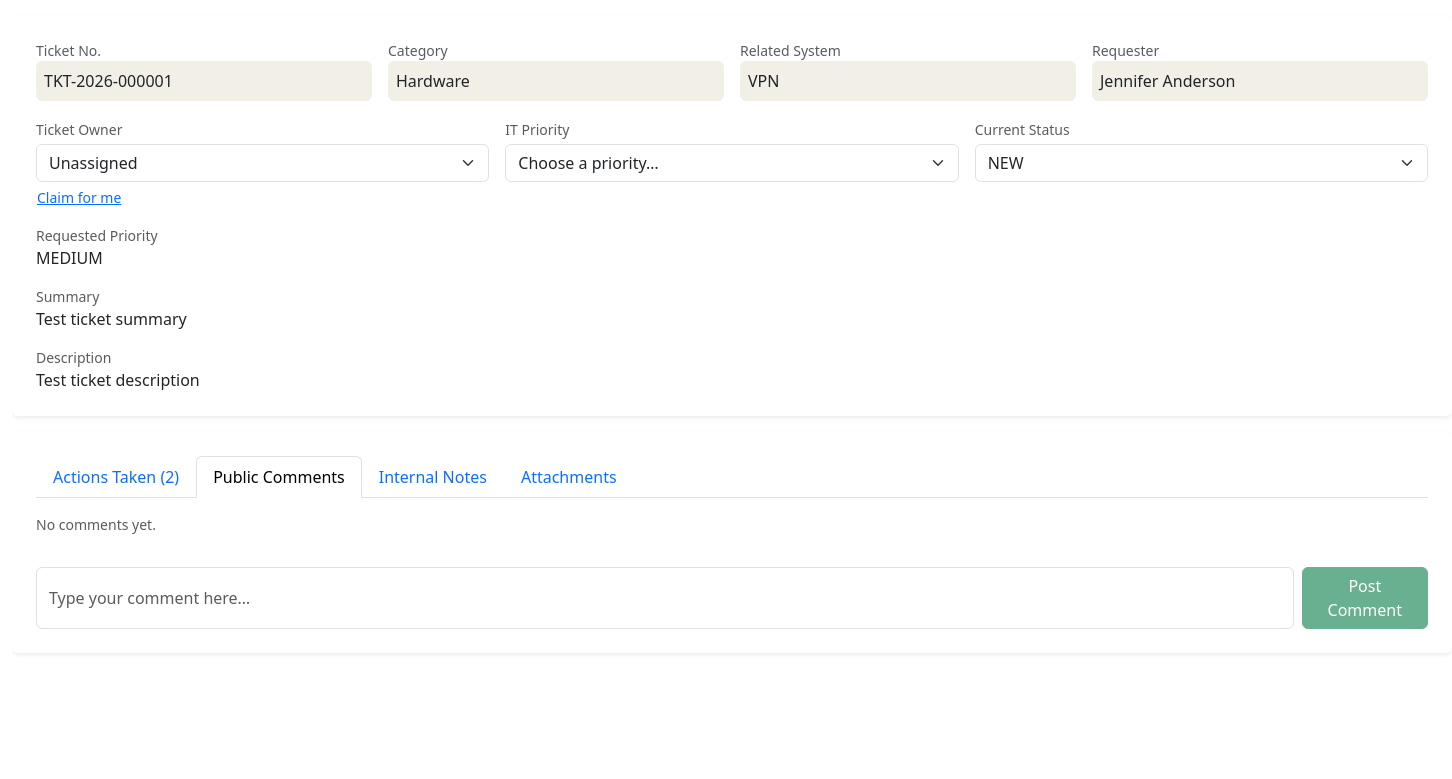
Test: Actions Taken — IT Staff Ticket Detail › renders a populated list with the Follow-up needed badge on the right entry (UI-01)
Click the button "Actions Taken (2)": (116, 477) [36, 456, 196, 498]
(page scrolled)
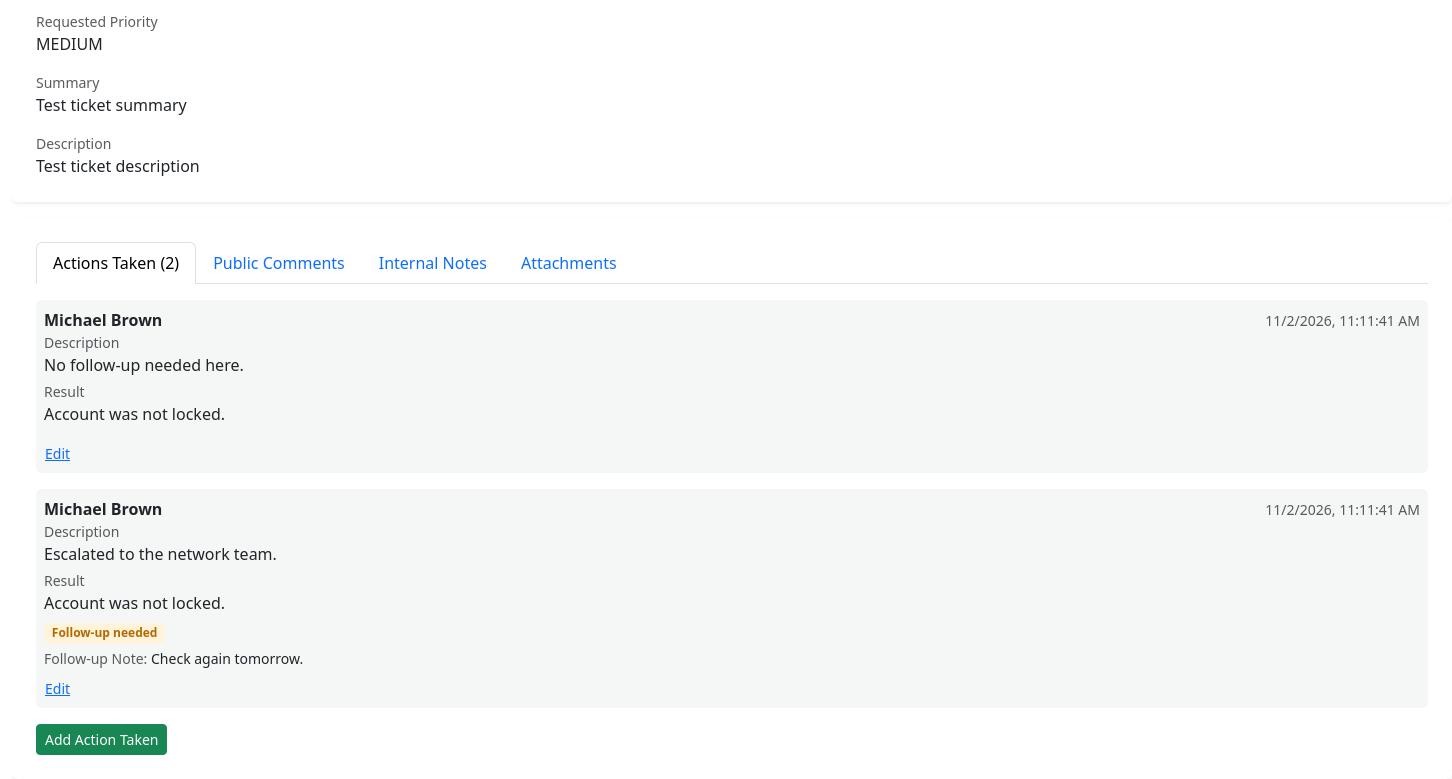
Now the text "Escalated to the network team." is shown, box [44, 543, 277, 565]
Now the text "Follow-up needed" is shown, box [44, 623, 165, 644]
Now the text "Check again tomorrow." is shown, box [151, 649, 303, 668]
